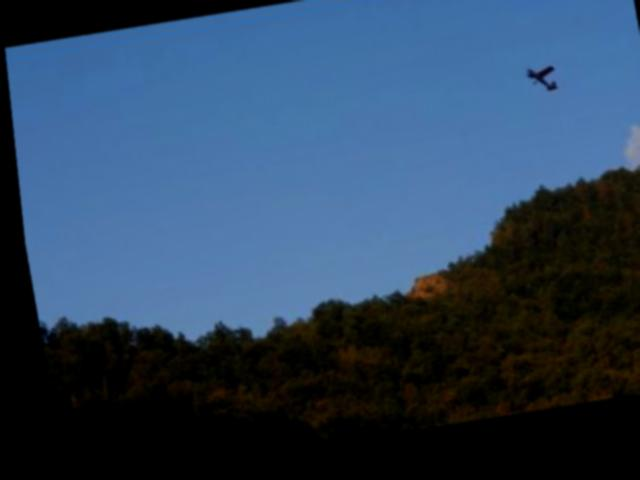uav: (518, 70, 560, 106)
